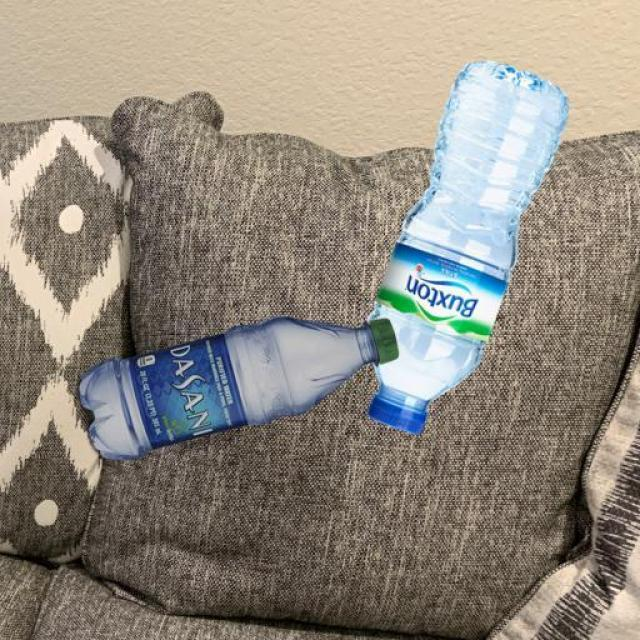bottle: (363, 49, 568, 436), (71, 308, 402, 481)
